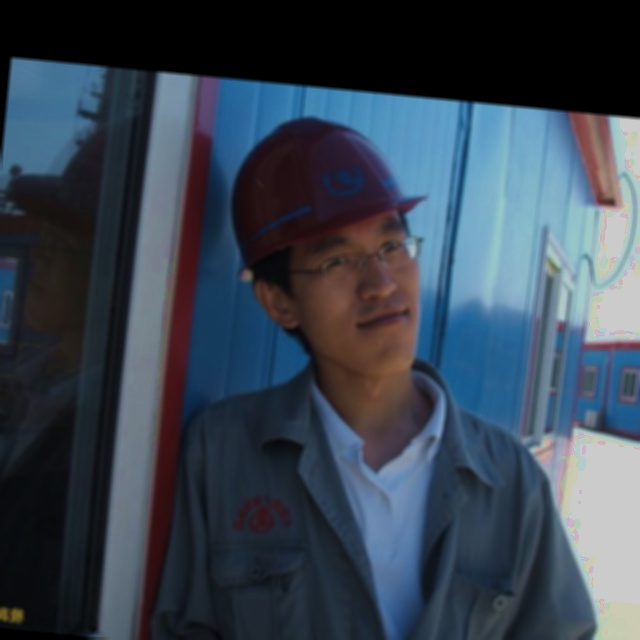Con_Casco: (217, 109, 436, 380)
Sin_Chaleco: (156, 370, 552, 640)
